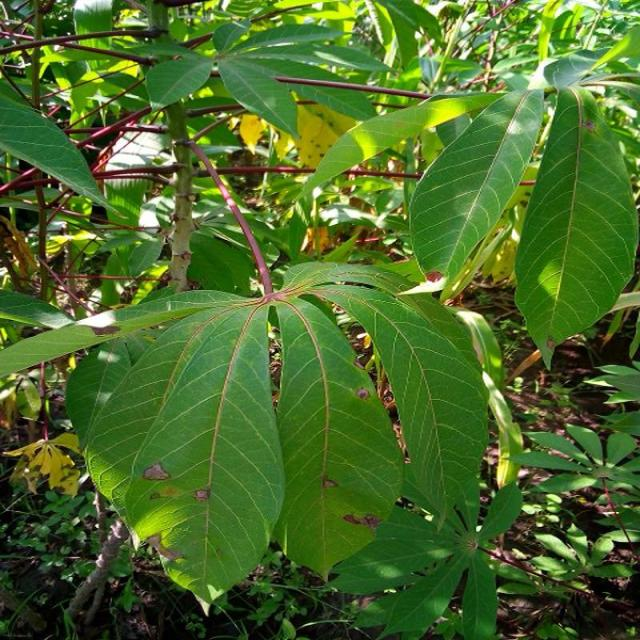cassava leaf: (66, 294, 286, 616), (272, 292, 405, 582), (514, 83, 639, 369), (408, 86, 546, 292)
